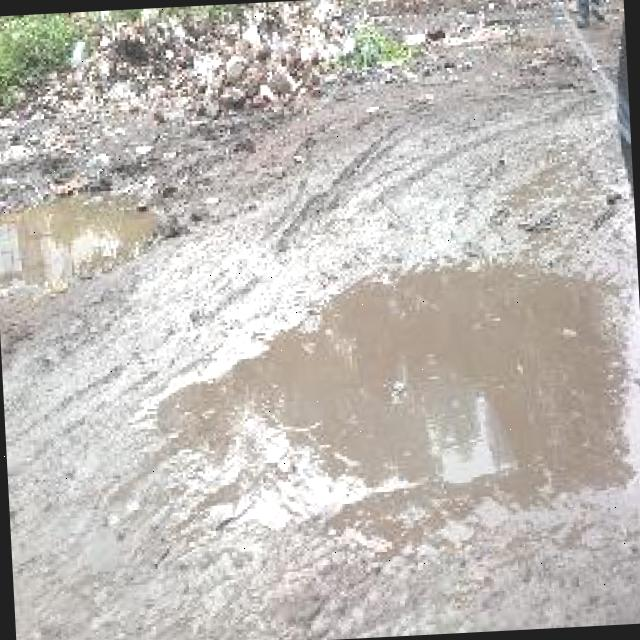stagnation: (151, 221, 640, 580)
